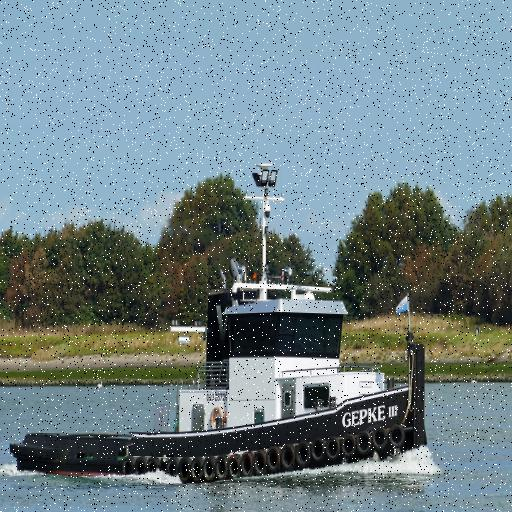tugboat: (8, 160, 434, 497)
